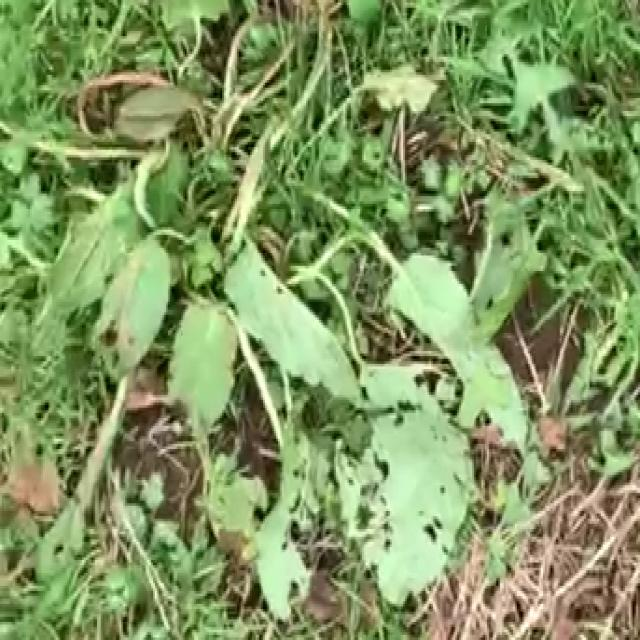organic waste: (26, 5, 551, 604)
